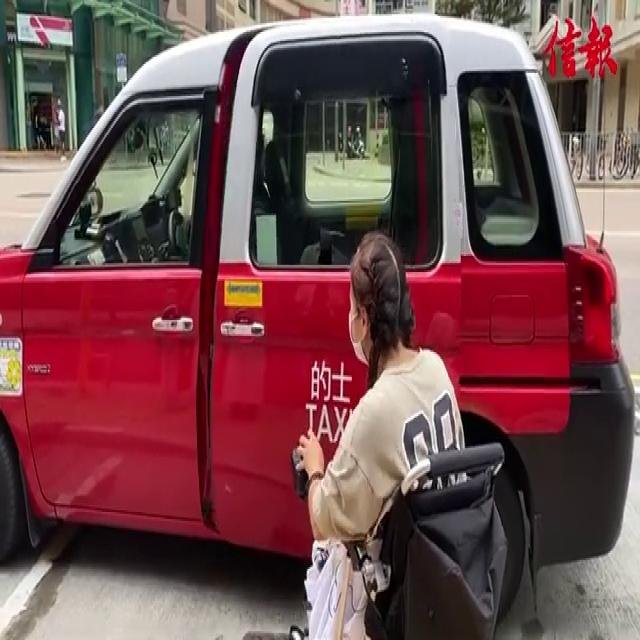wheelchairs: (280, 351, 532, 640)
